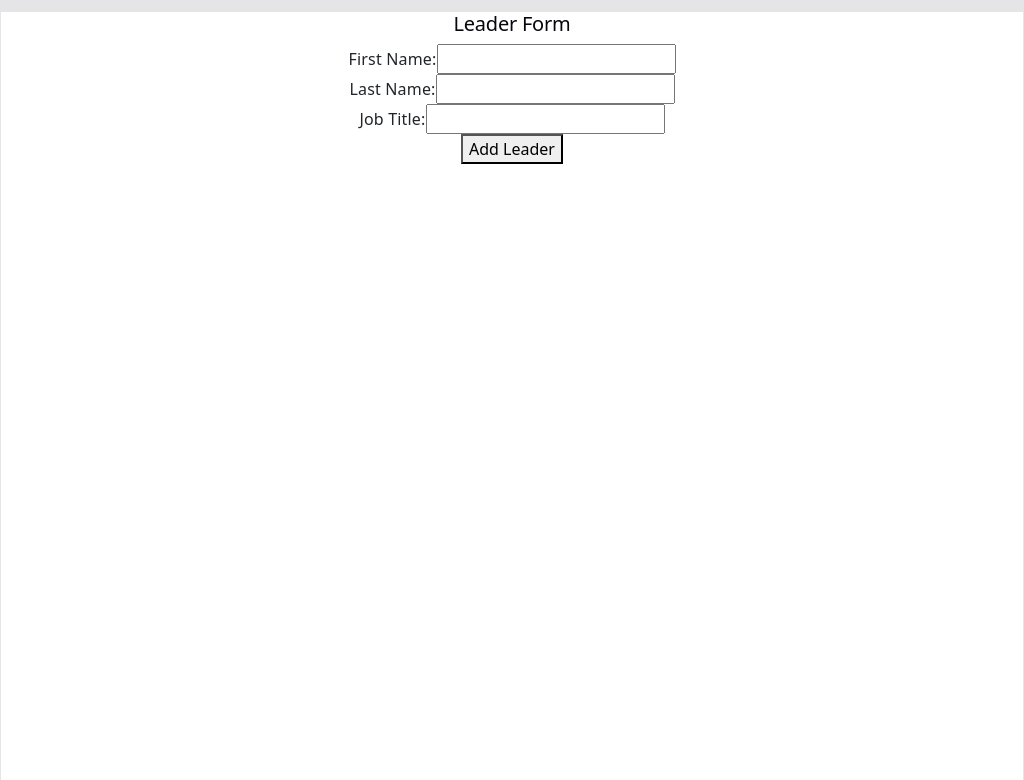
Test: LeaderForm › mock Leader Form › should display validation errors when submitting empty form
This screenshot has width=1024, height=780.
// Wait For The Human Action
Step 1. Click the button "Add Leader" → (512, 149), box [461, 134, 563, 164]
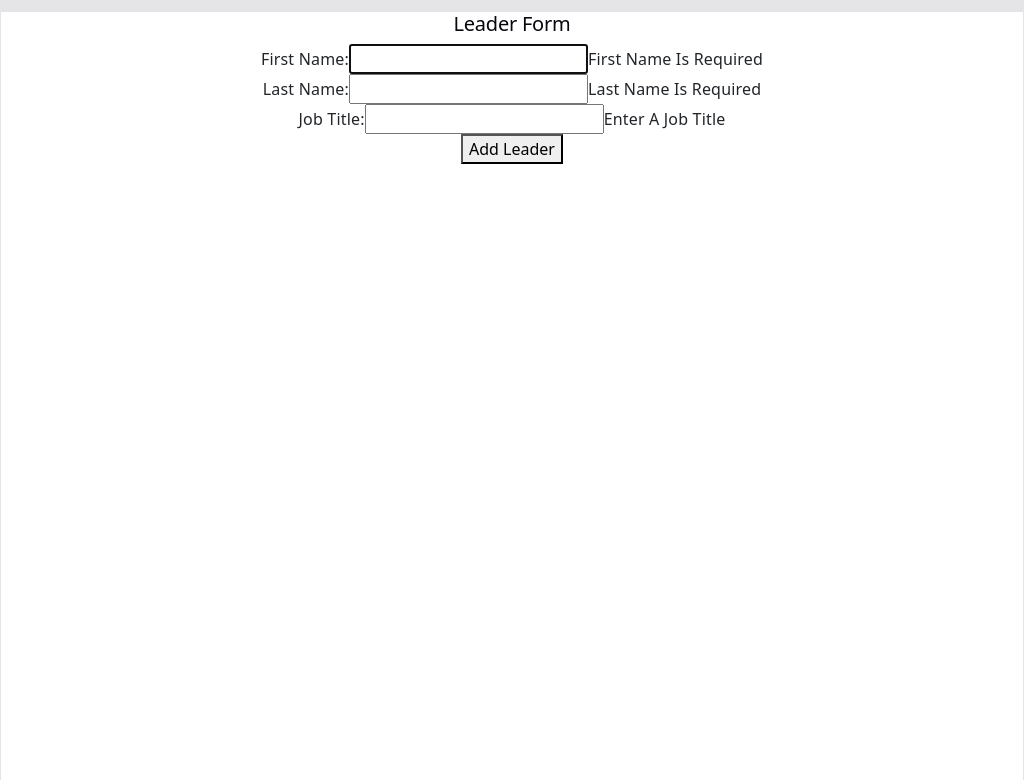
expect the text "First Name Is Required" is shown: met, box [588, 48, 763, 70]
expect the text "Last Name Is Required" is shown: met, box [588, 78, 761, 100]
expect the text "Enter A Job Title" is shown: met, box [604, 108, 725, 130]
